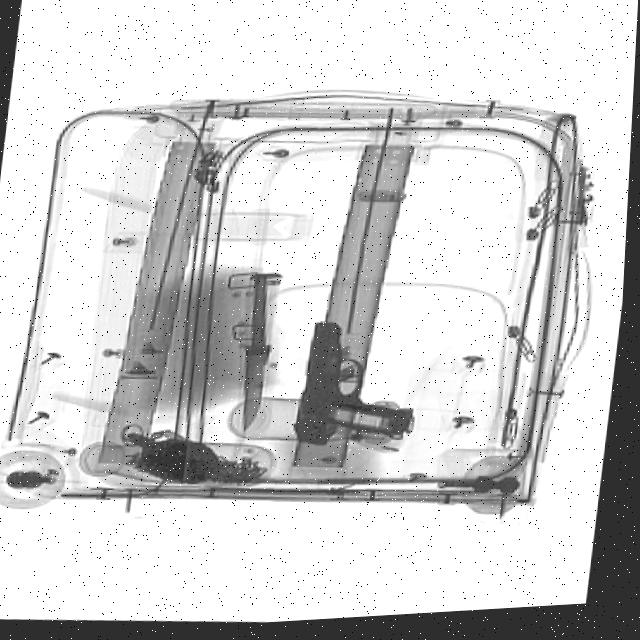grenade: (117, 420, 228, 491)
knife: (229, 252, 296, 437)
pistol: (300, 318, 428, 456)
